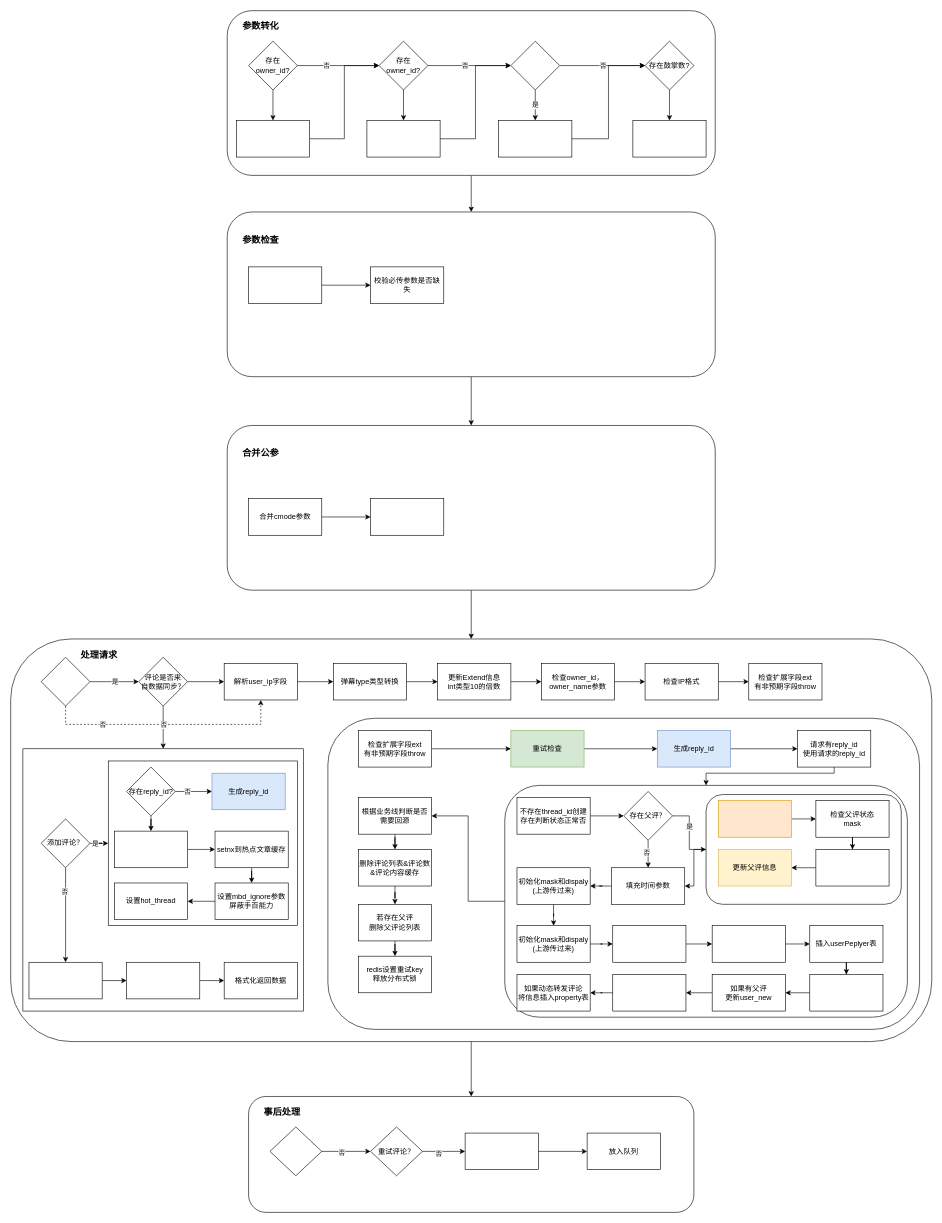
The diagram is 942 pixels wide and 1223 high, and some of its shapes have lost their labels. Each missing label, with the centre of its shape:
decode(ext): the point at 535,138
decode(owner_id): the point at 273,138
decode(owner_name): the point at 403,138
msg_key设置为动作: the point at 65,980
合并audit_time参数: the point at 407,516
如果有父评 更新replyer_new: the point at 649,992
如果评论展现 更新用户发出/接收的评论数: the point at 846,992
存在ext?: the point at 535,65
插入reply_new和content_new: the point at 649,943
更新主题表thread_new下评论数: the point at 748,943
校验各个参数的类型是否正确: the point at 285,284
格式化参数: the point at 151,849
格式化放入队列信息: the point at 501,1151
消息写入队列 comment-hot-pipe: the point at 163,980
点赞数=鼓掌数 like_count=clap_count: the point at 669,138
热点||数据 同步？: the point at 295,1151
若vip评论 更新父评extend信息: the point at 852,867
获取父评信息: the point at 754,818
资源是否为 热点资源？: the point at 65,681
